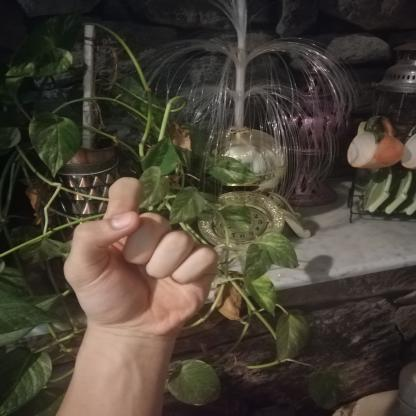FAA: (50, 166, 231, 346)
